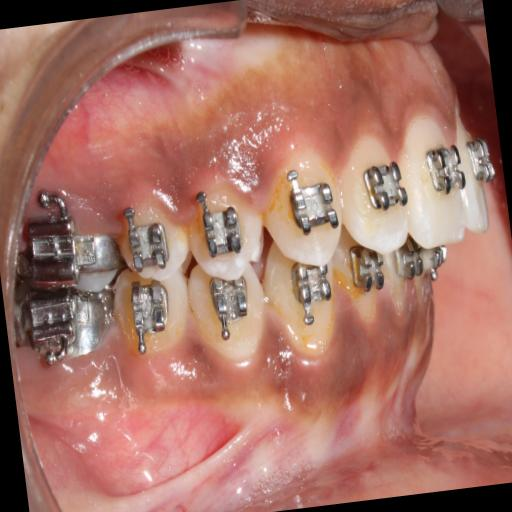correct_brace: (178, 176, 270, 286), (282, 177, 344, 238), (420, 136, 468, 202), (362, 158, 409, 216)
incorrect_brace: (333, 132, 414, 256), (192, 200, 247, 261)
